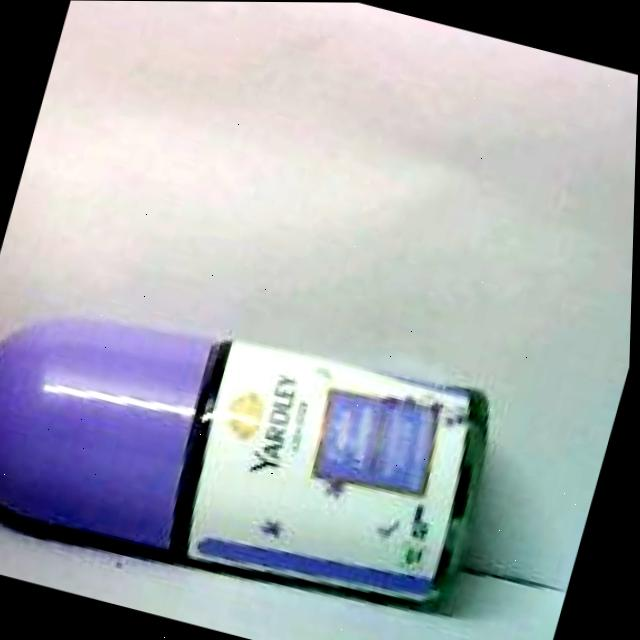yardley_rollon: (0, 315, 489, 614)
